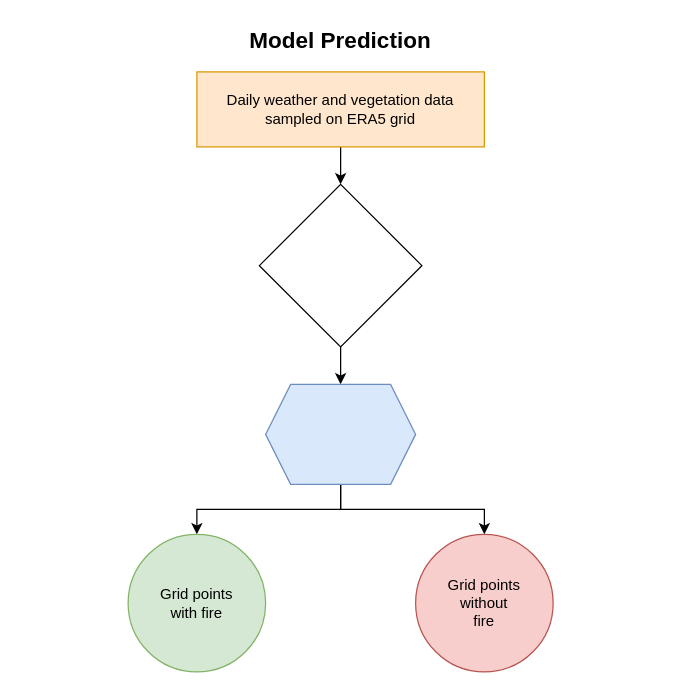
The diagram is 680 pixels wide and 694 high, and some of its shapes have lost their labels. The shapes that lost their labels are listed below. From the top down, each one's centre as x and y in pixels, then its label:
the point at 340,265: Model Preprocessing Pipeline
the point at 340,433: Fire Occurrence Predictive model
